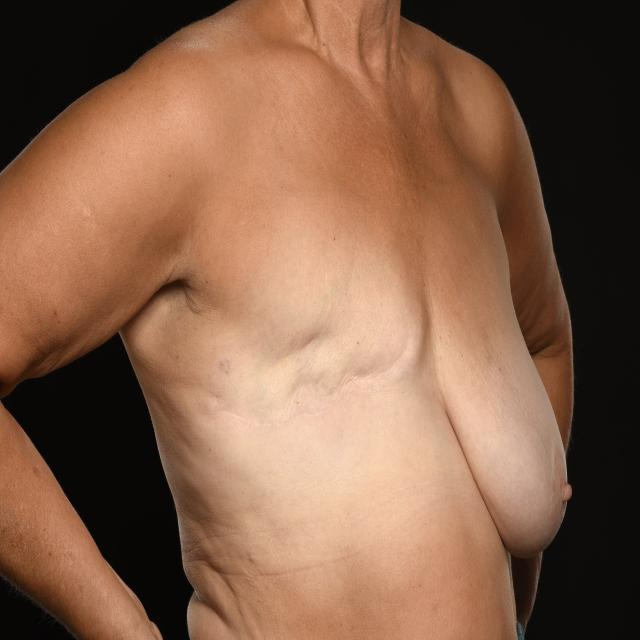wound: (216, 303, 431, 415)
